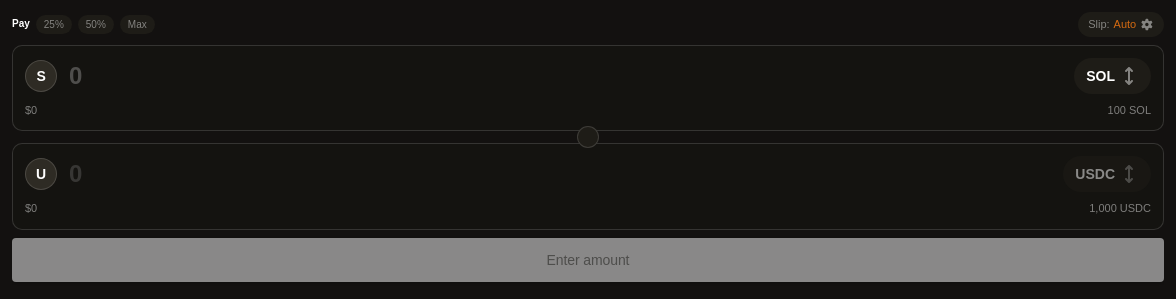
Test case: SwapWidget › Input Handling › should strip leading zeros
Type "007" into the field named "enter sol amount".
click(566, 76); type("007")  # box [69, 60, 1062, 92]
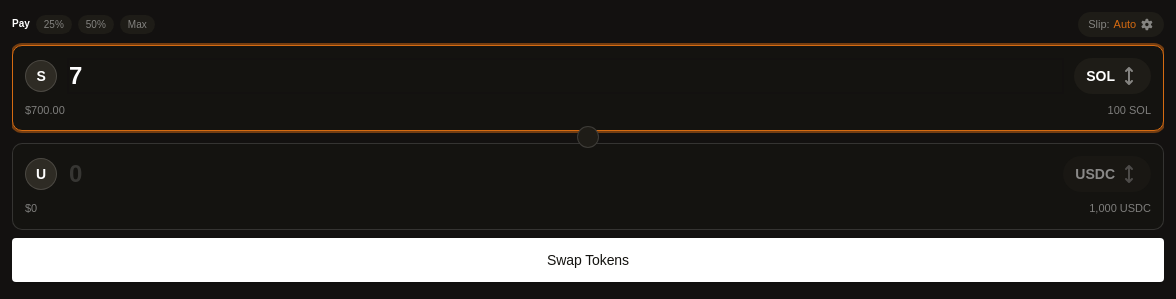
Expected: the field named "enter sol amount" holds "7", [69, 60, 1062, 92]
